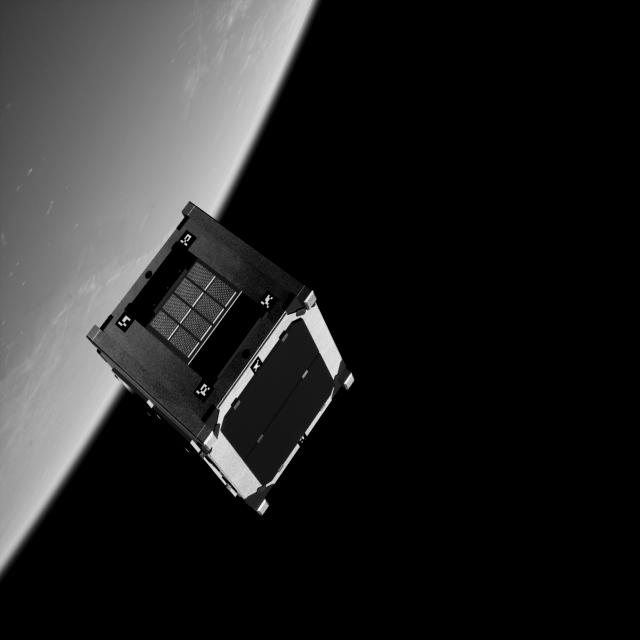satellite: (89, 198, 350, 520)
